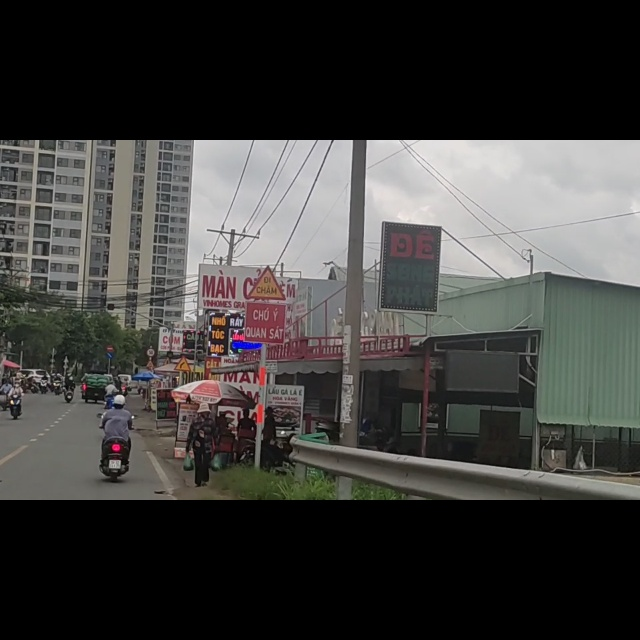bien_cam: (250, 223, 285, 283), (173, 383, 193, 412)
